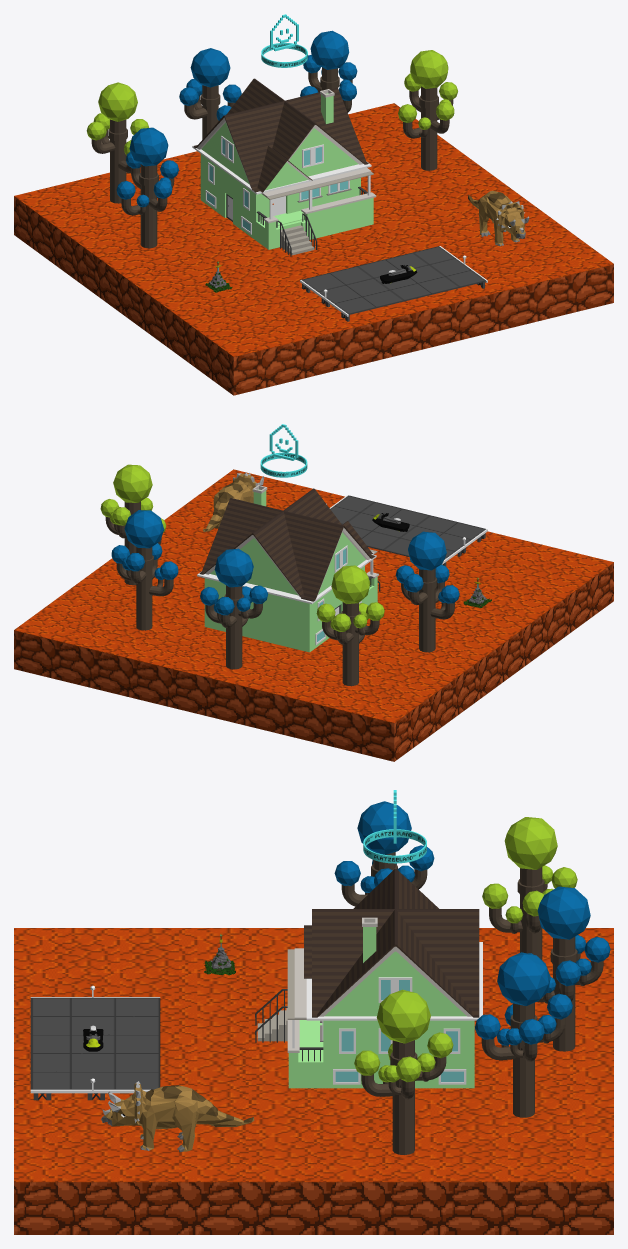
The picture shows the model from 3 angles, top to bottom: view 1: azimuth 30°, elevation 25°; view 2: azimuth 150°, elevation 25°; view 3: azimuth 270°, elevation 25°; orthographic projection. The views are drawn at different scales.
Parts seen in each view (by area): view 1: Cube.001, Cube.274, ANIMAL_Triceratops, TYPE_PREMIUM; view 2: Cube.001, Cube.274, ANIMAL_Triceratops, TYPE_PREMIUM; view 3: Cube.001, Cube.274, ANIMAL_Triceratops, TYPE_PREMIUM, OBJRANDOM_SWORD_IN_THE_STONE.
Boxes of the visible parts, x1=… form: Cube.001: x1=14, y1=30, x2=613, y2=395; Cube.274: x1=192, y1=78, x2=376, y2=256; ANIMAL_Triceratops: x1=468, y1=190, x2=529, y2=246; TYPE_PREMIUM: x1=261, y1=14, x2=307, y2=67; Cube.001: x1=14, y1=464, x2=613, y2=761; Cube.274: x1=197, y1=485, x2=380, y2=652; ANIMAL_Triceratops: x1=203, y1=473, x2=264, y2=531; TYPE_PREMIUM: x1=260, y1=424, x2=307, y2=477; Cube.001: x1=14, y1=801, x2=613, y2=1234; Cube.274: x1=255, y1=869, x2=482, y2=1088; ANIMAL_Triceratops: x1=101, y1=1081, x2=254, y2=1152; TYPE_PREMIUM: x1=363, y1=790, x2=426, y2=863; OBJRANDOM_SWORD_IN_THE_STONE: x1=203, y1=933, x2=235, y2=975.
Bounding box in the file's own units: 4000 × 2426 × 4000.
39 materials, 5 textured.
